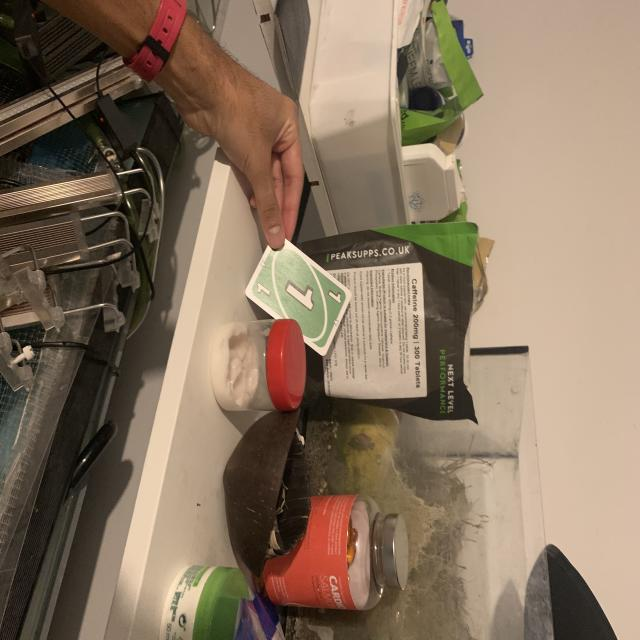lgreen-1: (326, 287, 344, 305)
